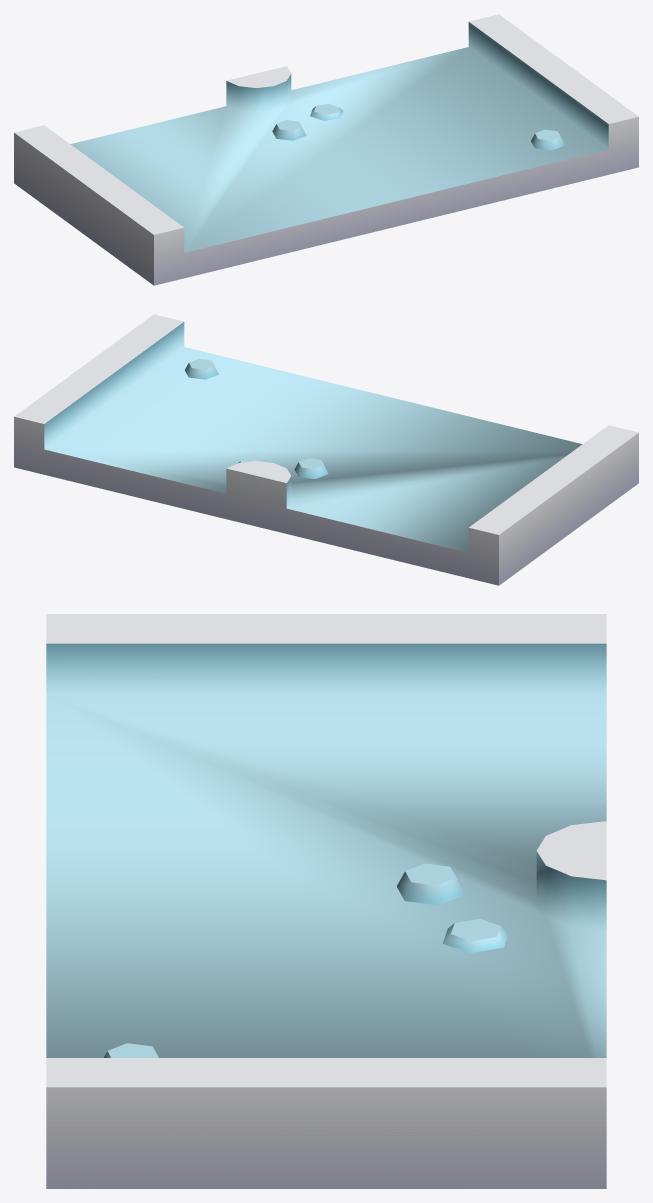
The model's file is snow-tile-wide-split.glb.
3 views of the same model, one above another, from view 1: azimuth 30°, elevation 25°; view 2: azimuth 150°, elevation 25°; view 3: azimuth 270°, elevation 25° (orthographic). The views are drawn at different scales.
Parts seen in each view (by area): view 1: snow-tile-wide-split; view 2: snow-tile-wide-split; view 3: snow-tile-wide-split.
Boxes of the visible parts, box(x1,y1,x2,y2) form: snow-tile-wide-split: box(14, 14, 638, 285); snow-tile-wide-split: box(14, 314, 638, 585); snow-tile-wide-split: box(46, 614, 606, 1188).
Bounding box in the file's own units: 2 × 0.2 × 1.
1 material, 1 textured.
